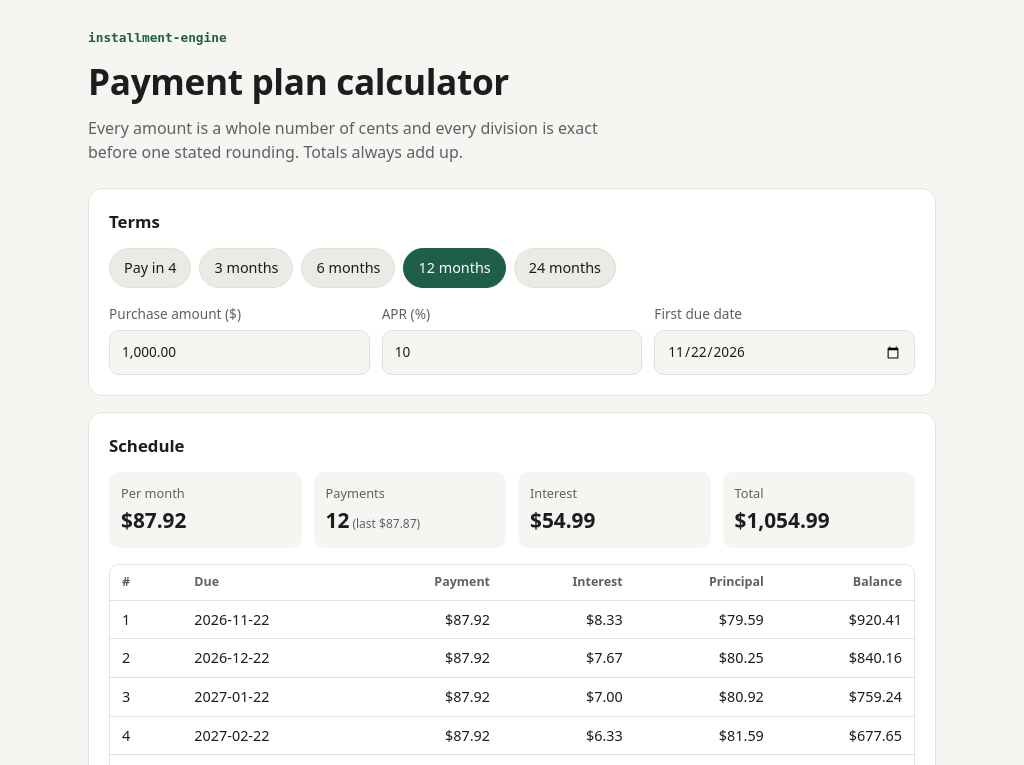
Test: calculator UI › shows a readable error for a bad amount instead of crashing
Replace the text in the field labelled "Purchase amount ($)" with "12.345". click: [239, 352]
box: [109,330,370,375]
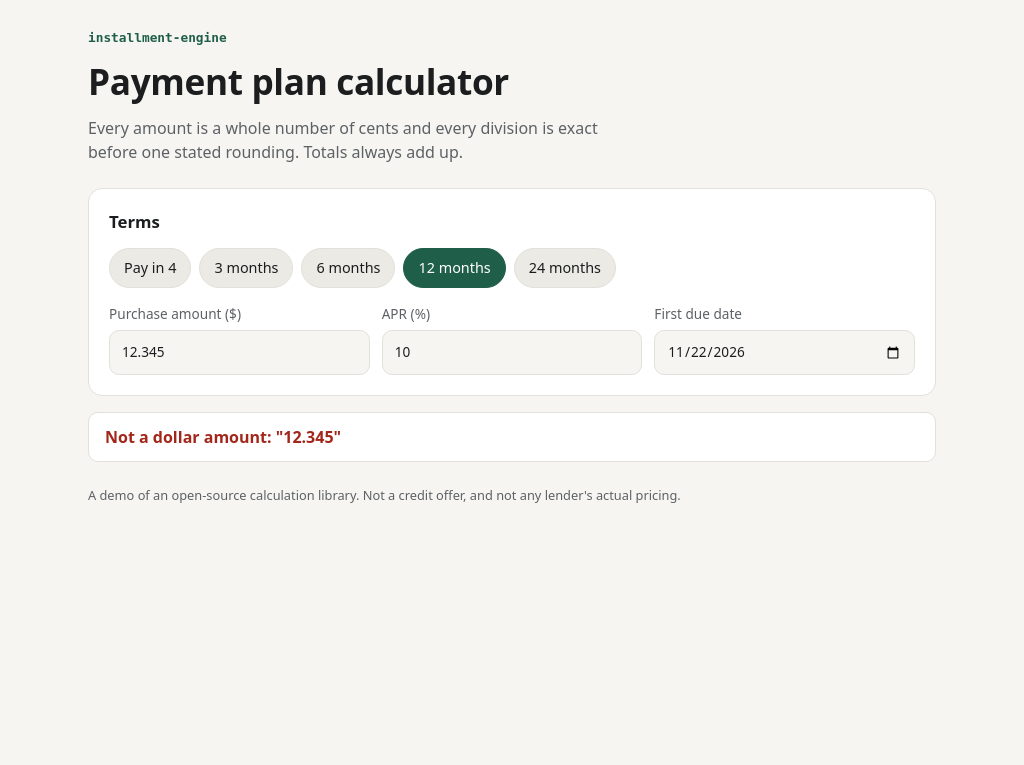
Now the message shows "Not a dollar amount", box [105,426,341,448]
Replace the text in the field labelled "Purchase amount ($)" with "5". click: [239, 352]
box: [109,330,370,375]
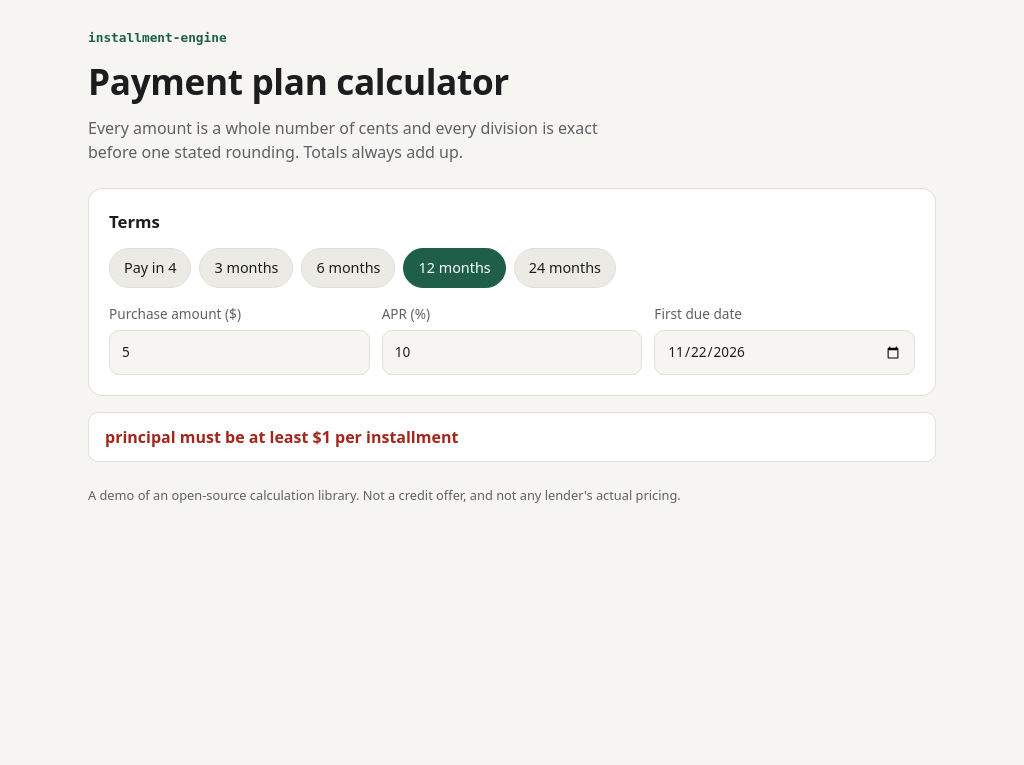
Now the message shows "at least $1 per installment", box [105,426,458,448]
